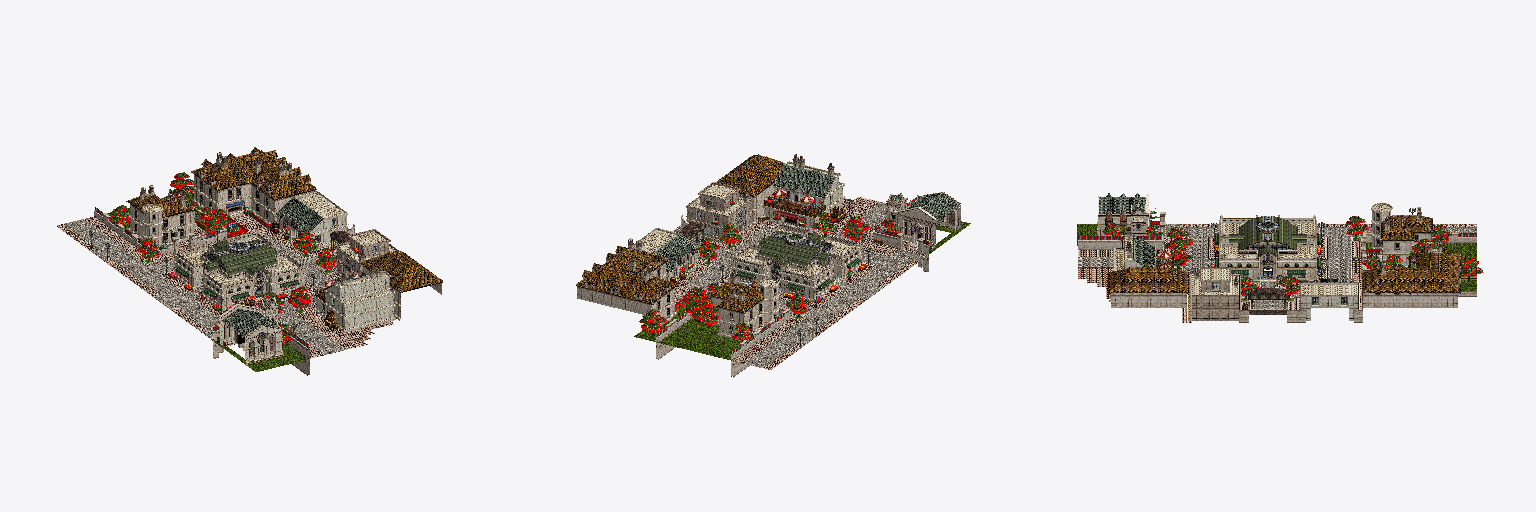
The picture shows the model from 3 angles: view 1: azimuth 30°, elevation 25°; view 2: azimuth 150°, elevation 25°; view 3: azimuth 270°, elevation 25°; orthographic projection.
Parts seen in each view (by area): view 1: Object.1; view 2: Object.1; view 3: Object.1.
Boxes of the visible parts, x1=… form: Object.1: x1=57, y1=147, x2=442, y2=375; Object.1: x1=576, y1=154, x2=970, y2=377; Object.1: x1=1077, y1=193, x2=1482, y2=322.
Size of the model in its own units: 49.34 by 16 by 85.41.
Materials: 28 (27 with a texture image).